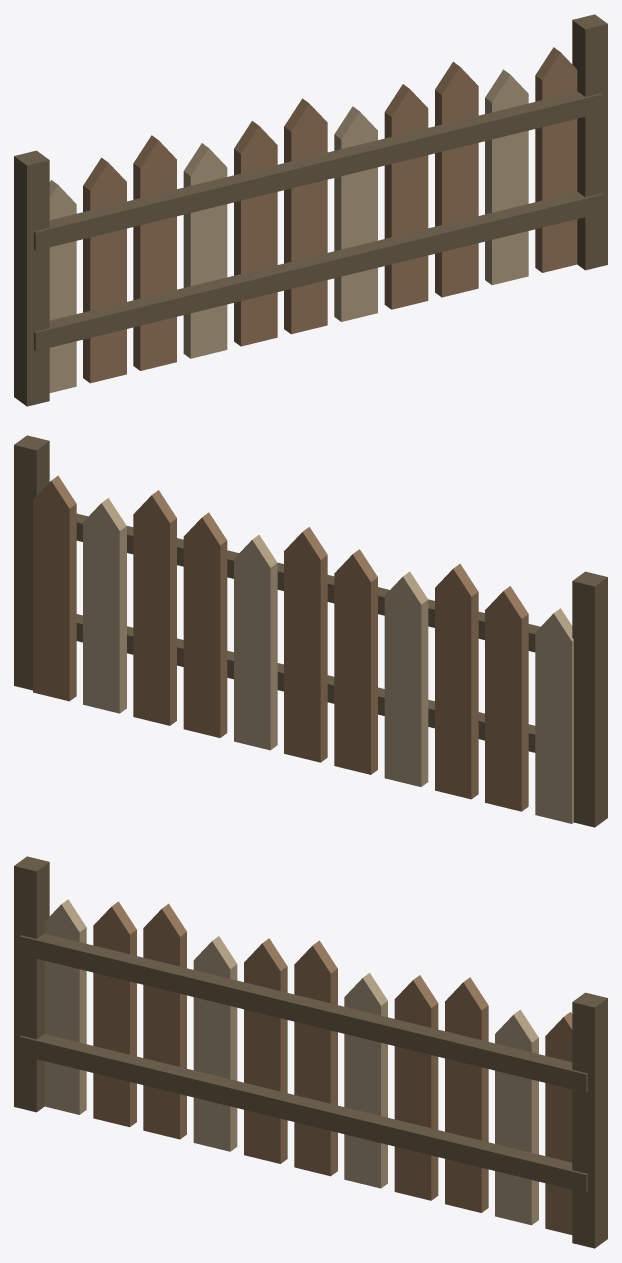
The model's file is ua_picket_fence.obj.
3 renders of one model, top to bottom at view 1: azimuth 30°, elevation 25°; view 2: azimuth 150°, elevation 25°; view 3: azimuth 330°, elevation 25°, orthographic.
Parts seen in each view (by area): view 1: ua_picket_fence; view 2: ua_picket_fence; view 3: ua_picket_fence.
Part boxes in pixels (x1,y1,x2,y2): ua_picket_fence: (14, 14, 607, 406); ua_picket_fence: (14, 435, 607, 827); ua_picket_fence: (14, 856, 607, 1248).
Size of the model in its own units: 3.33 by 1.32 by 0.165.
